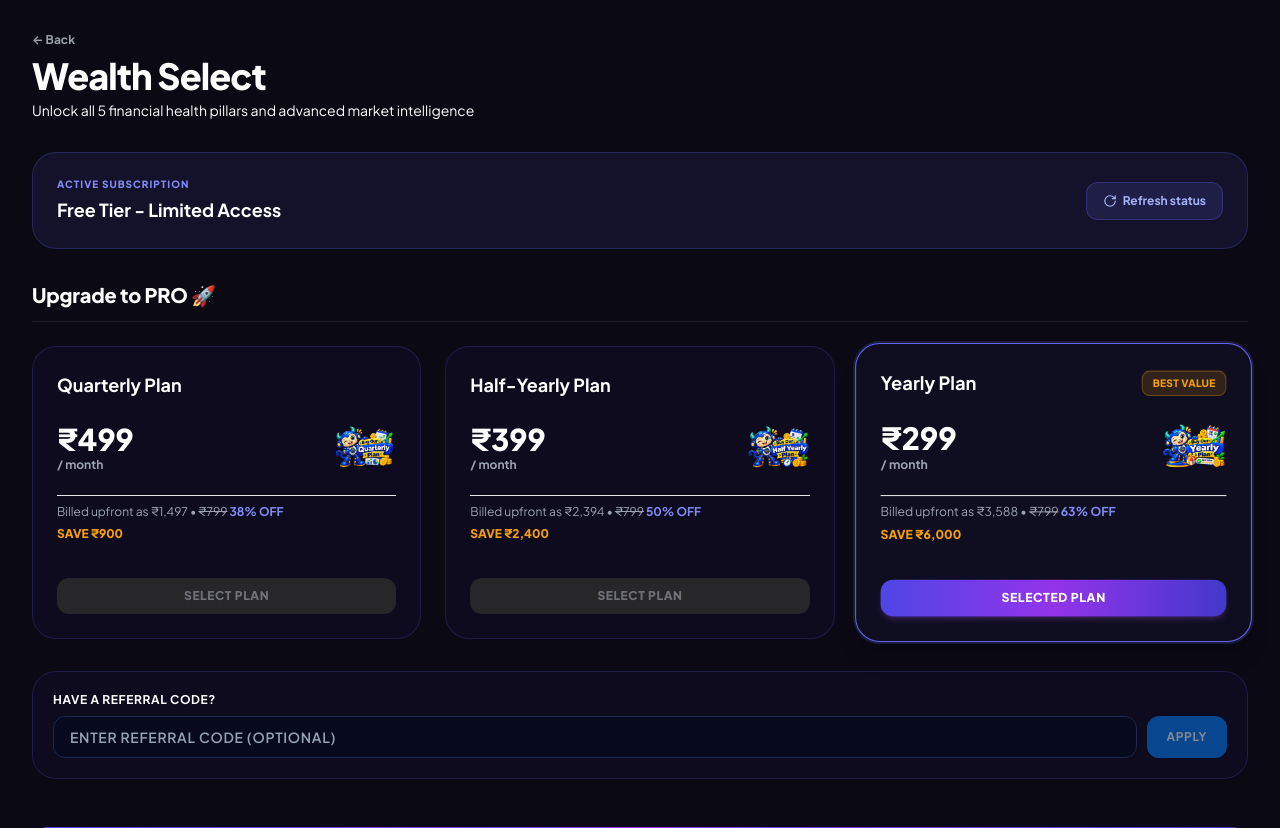
Test: Referral Flow - SubscriptionPage & RegisterPage › SubscriptionPage Referral Section › FINFREE on Quarterly: shows Code Applied, final price ₹0, discount line on Quarterly card only
The image size is (1280, 828).
Click the element with test id "sub-plan-card-3" at (227, 492), box [32,346,421,639]
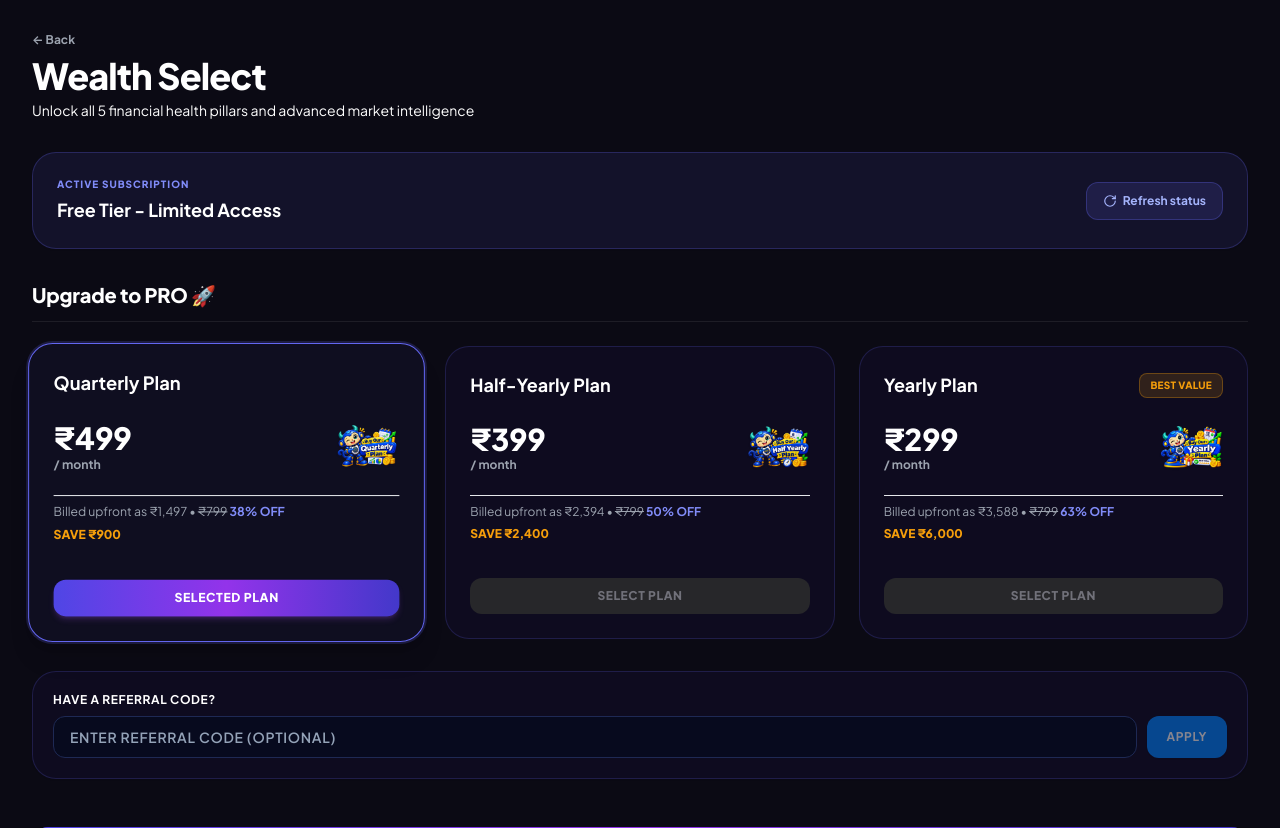
Type "FINFREE" into the field with placeholder "Enter Referral Code (Optional)" at (595, 737), box [53,716,1136,758]
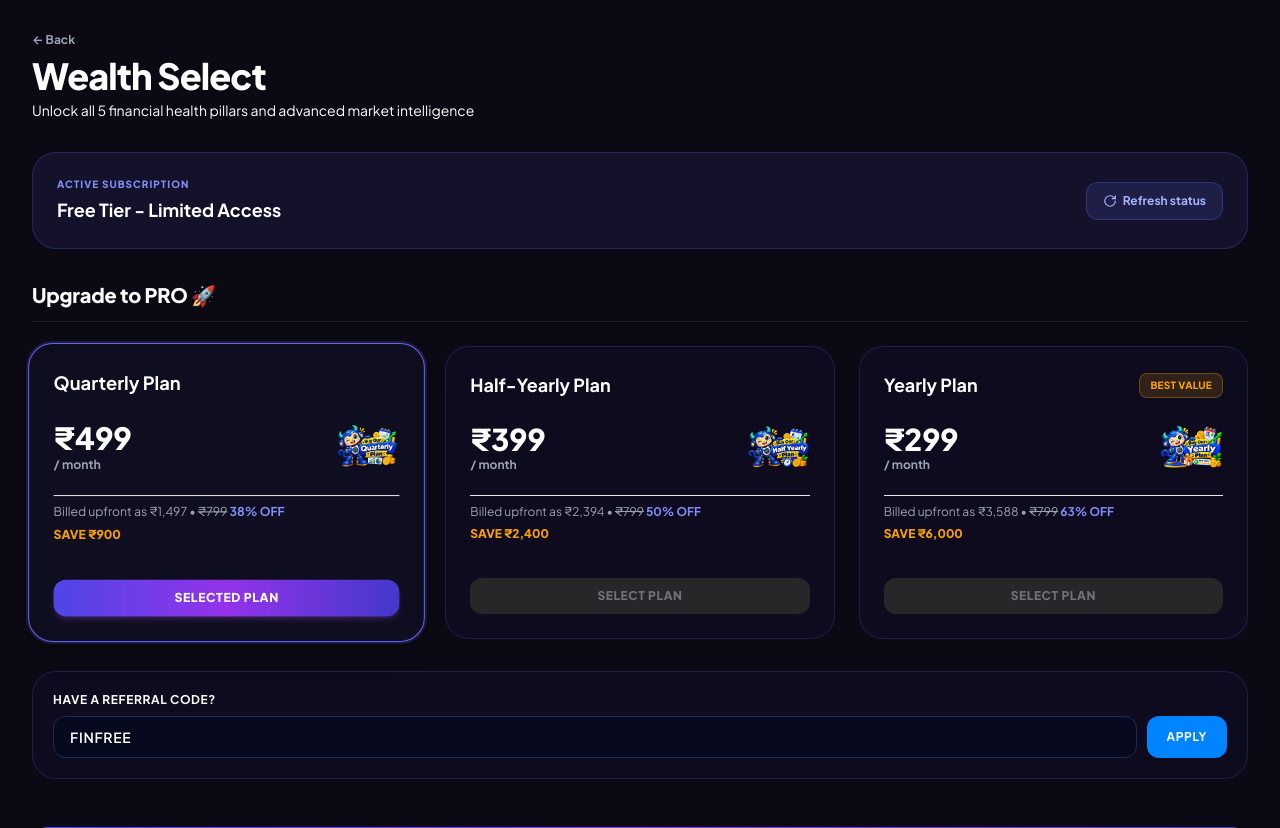
Click the button "APPLY" at (1187, 737), box [1146,716,1227,758]
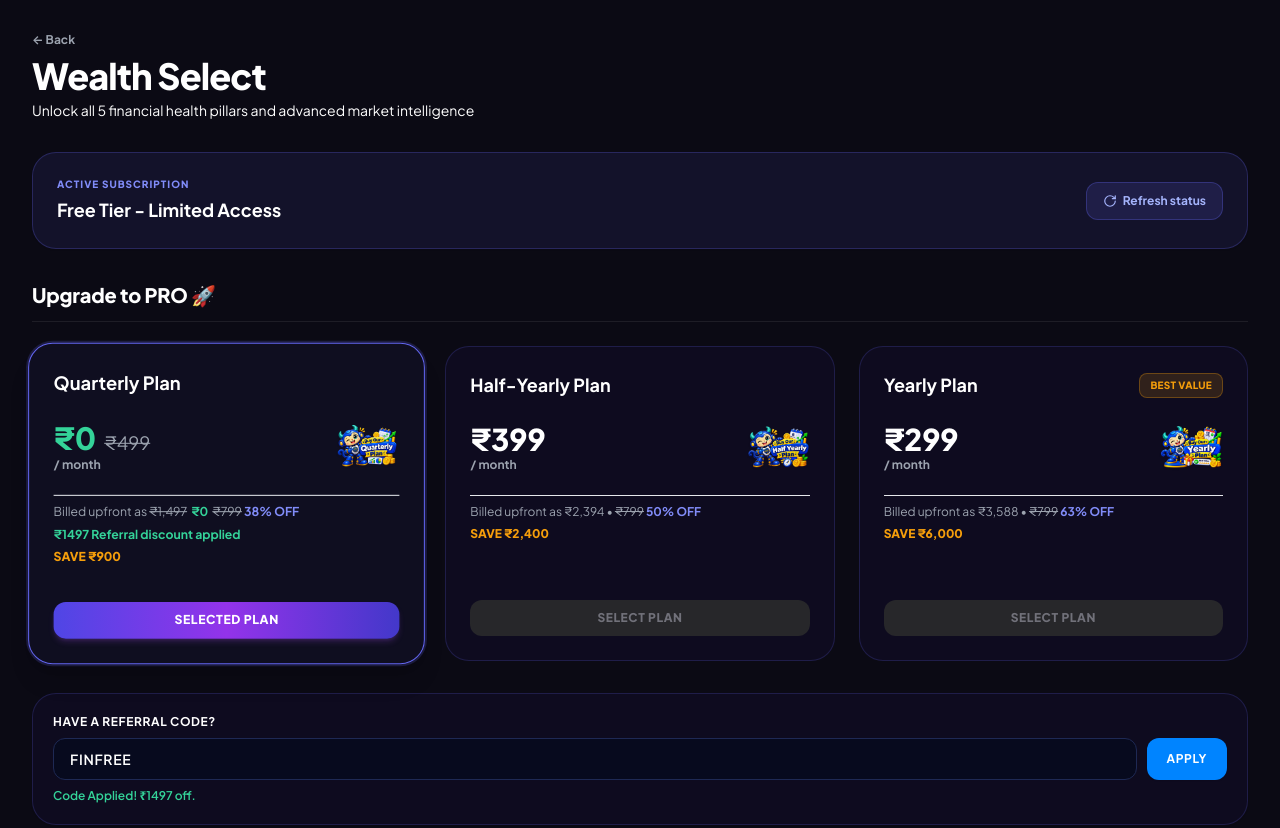
Expected: the element with test id "sub-plan-card-6" shows "₹399", [470,420,546,458]
Expected: the text "Code Applied! ₹1497 off." is shown, [53,788,196,803]
Expected: the text "₹1497 Referral discount applied" is shown, [54,526,241,542]
